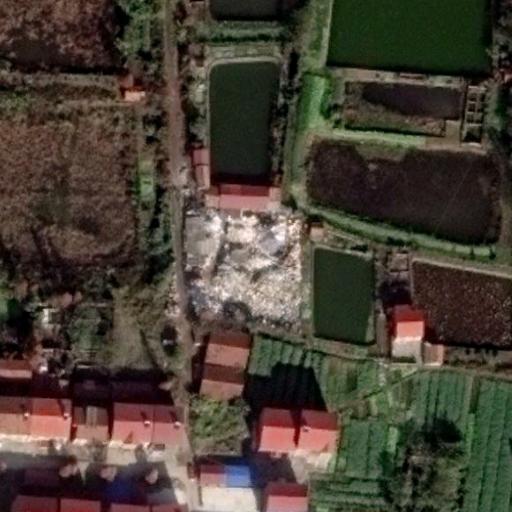msw: (186, 214, 302, 330)
